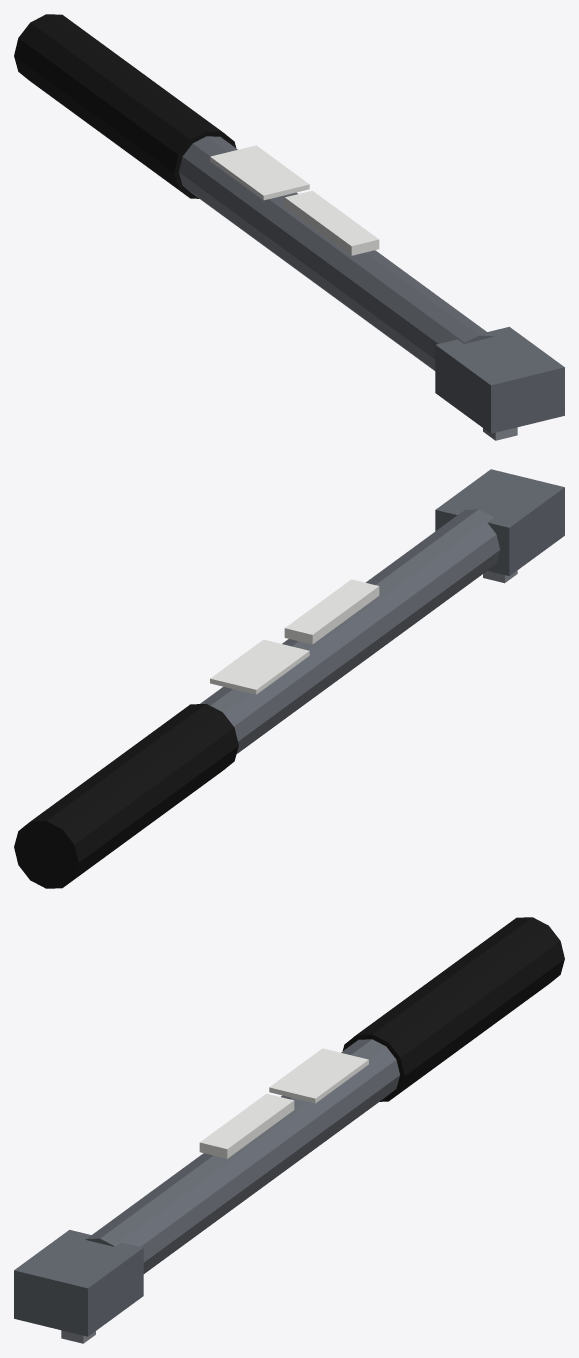
File: TL_TorqueWrench_S.fbx
3 views of the same model, one above another, from view 1: azimuth 30°, elevation 25°; view 2: azimuth 150°, elevation 25°; view 3: azimuth 330°, elevation 25° (orthographic).
Parts seen in each view (by area): view 1: TL_TorqueWrench_S, Grip, FX_CalLabel, ScaleWindow; view 2: TL_TorqueWrench_S, Grip, FX_CalLabel, ScaleWindow; view 3: TL_TorqueWrench_S, Grip, FX_CalLabel, ScaleWindow.
Part boxes in pixels (bbox=[...]): TL_TorqueWrench_S: bbox=[179, 136, 564, 433]; Grip: bbox=[14, 14, 236, 198]; FX_CalLabel: bbox=[210, 145, 309, 200]; ScaleWindow: bbox=[284, 190, 379, 255]; TL_TorqueWrench_S: bbox=[200, 469, 564, 753]; Grip: bbox=[14, 703, 238, 888]; FX_CalLabel: bbox=[210, 639, 309, 694]; ScaleWindow: bbox=[284, 579, 379, 644]; TL_TorqueWrench_S: bbox=[14, 1039, 399, 1336]; Grip: bbox=[342, 917, 564, 1101]; FX_CalLabel: bbox=[269, 1048, 368, 1103]; ScaleWindow: bbox=[199, 1093, 294, 1158].
Bounding box in the file's own units: 0.032 × 0.038 × 0.3608.
